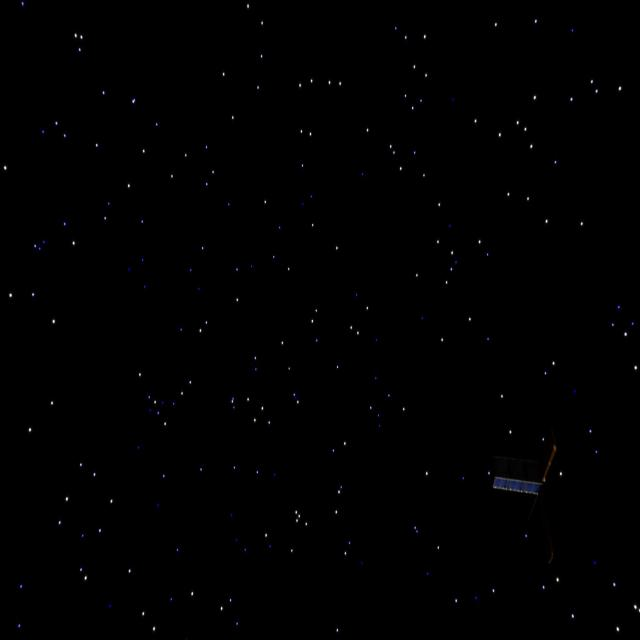medium_debris: (488, 428, 569, 598)
